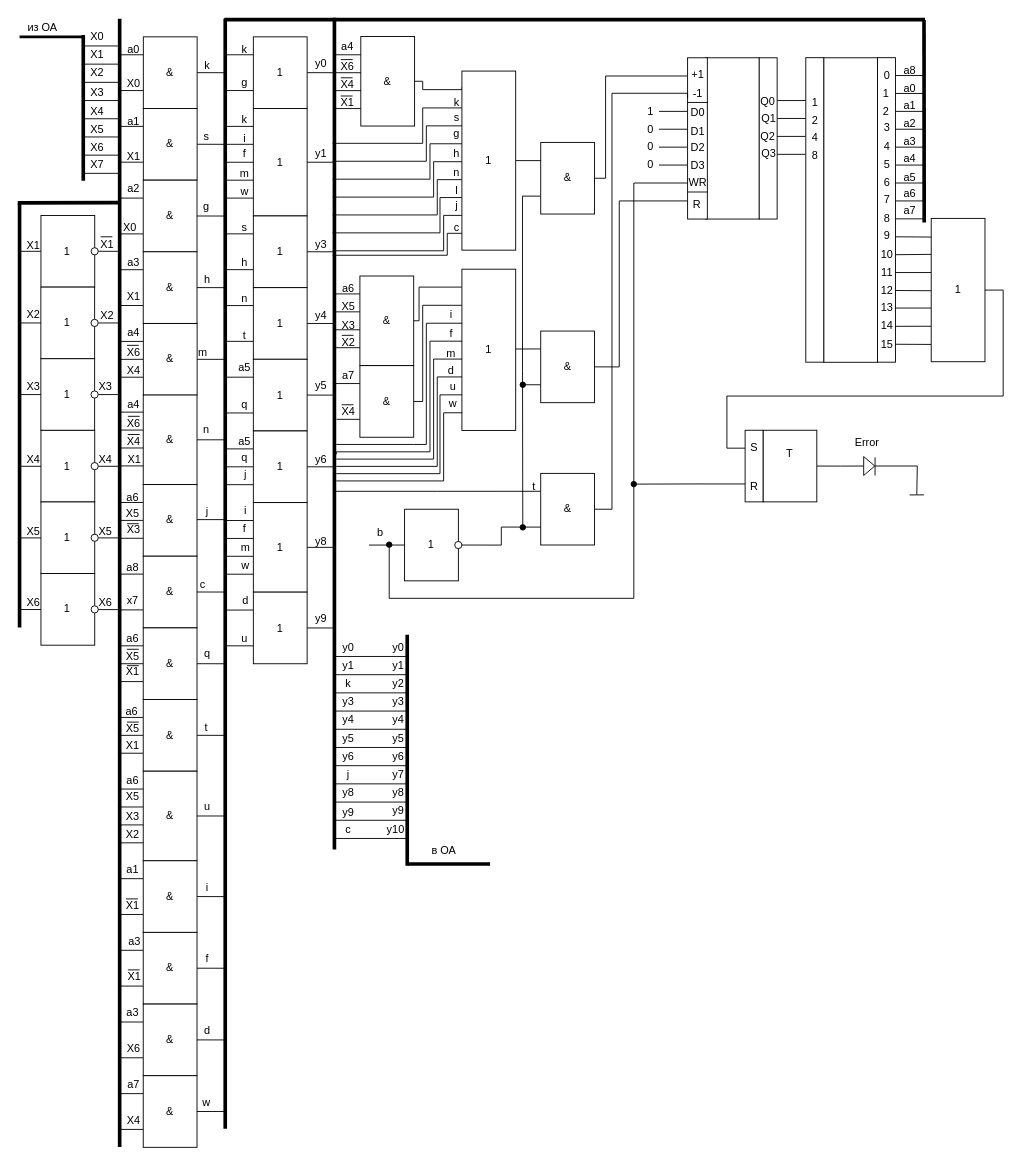
Some shapes in this 1020 by 1165 pixel diagram are drawn without their labels. Here are the shapes that lost their labels. From the top down, the centre of each, then its label:
point (732, 138): CT
point (850, 209): DC
